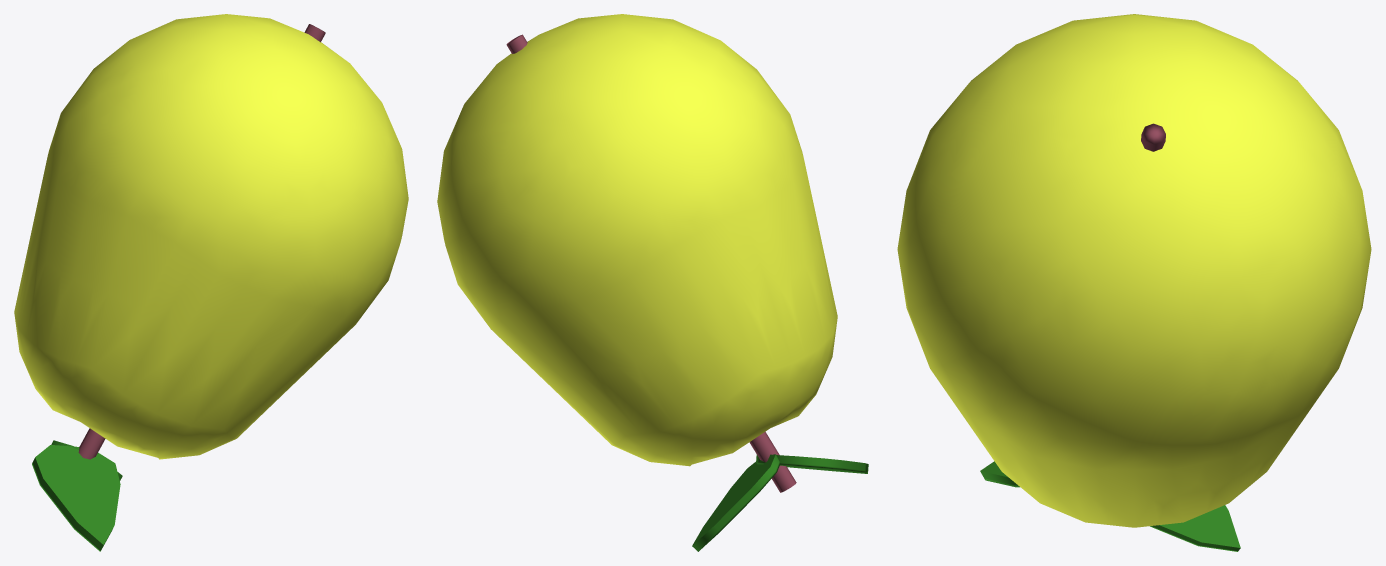
The model's file is Grusha.fbx.
3 renders of one model, left to right at view 1: azimuth 30°, elevation 25°; view 2: azimuth 150°, elevation 25°; view 3: azimuth 270°, elevation 25°, orthographic. The views are drawn at different scales.
Visible parts, largest first — view 1: Grusha, Prism; view 2: Grusha, Prism__1_, Prism; view 3: Grusha, Prism__1_.
Part boxes in pixels (<box>): Grusha: <box>14,14,408,459</box>; Prism: <box>32,445,120,551</box>; Grusha: <box>437,14,837,492</box>; Prism__1_: <box>692,454,780,551</box>; Prism: <box>756,454,868,473</box>; Grusha: <box>897,14,1371,527</box>; Prism__1_: <box>1150,505,1240,551</box>.
Size of the model in its own units: 141 by 172 by 125.
